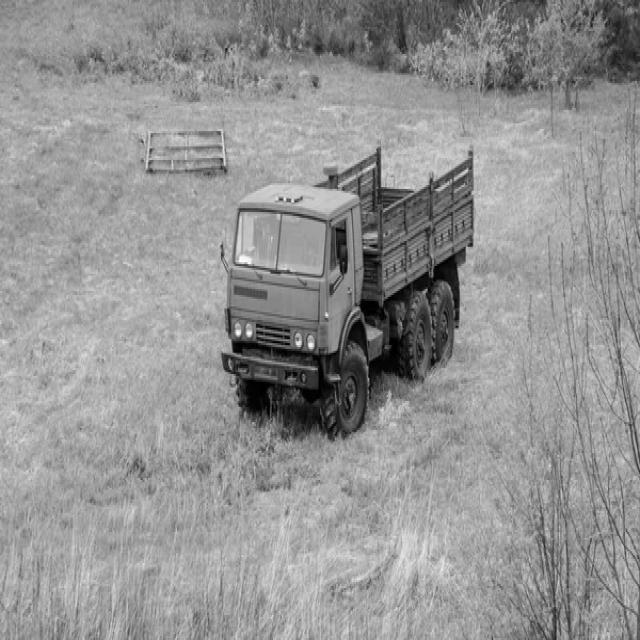Truck: (222, 146, 476, 434)
